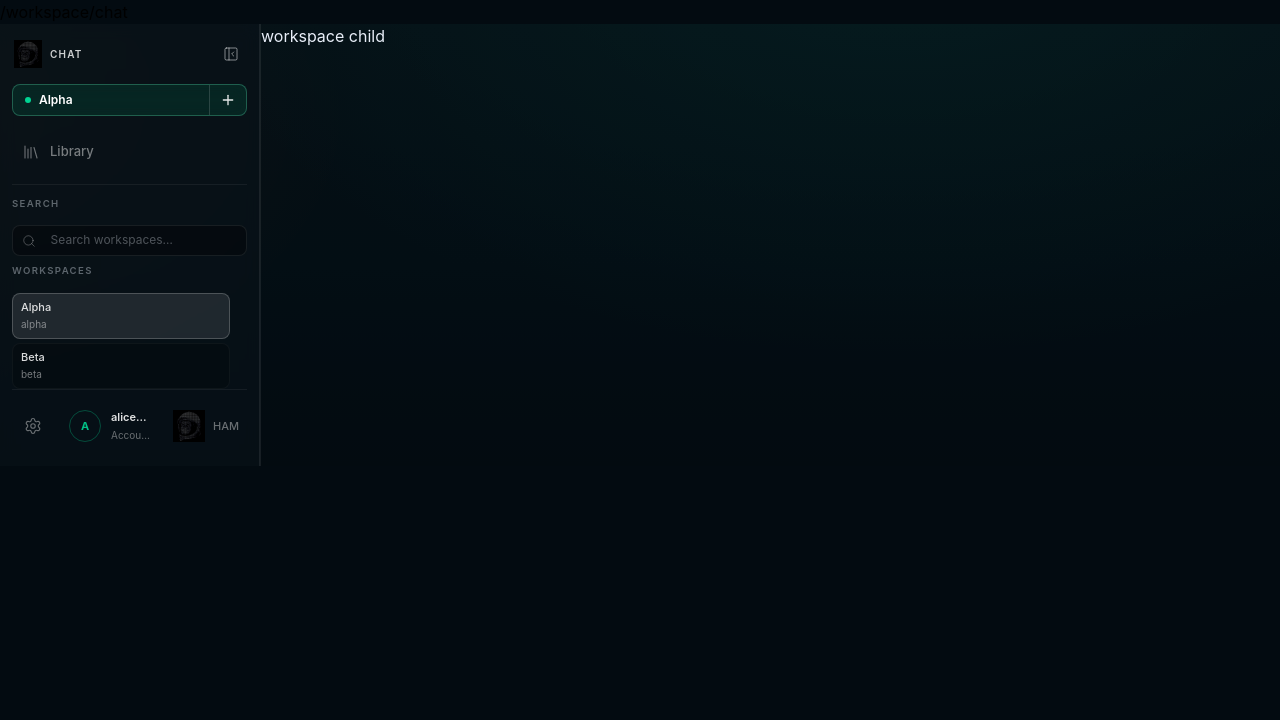
Test: WorkspaceShell workspace sidebar › opens create modal from the pill + control
Expected: the text "workspace child" is shown, x1=261 y1=26 x2=385 y2=46
Click the button with test id "ham-workspace-pill-create". click: (228, 100)
box: x1=209 y1=85 x2=246 y2=115
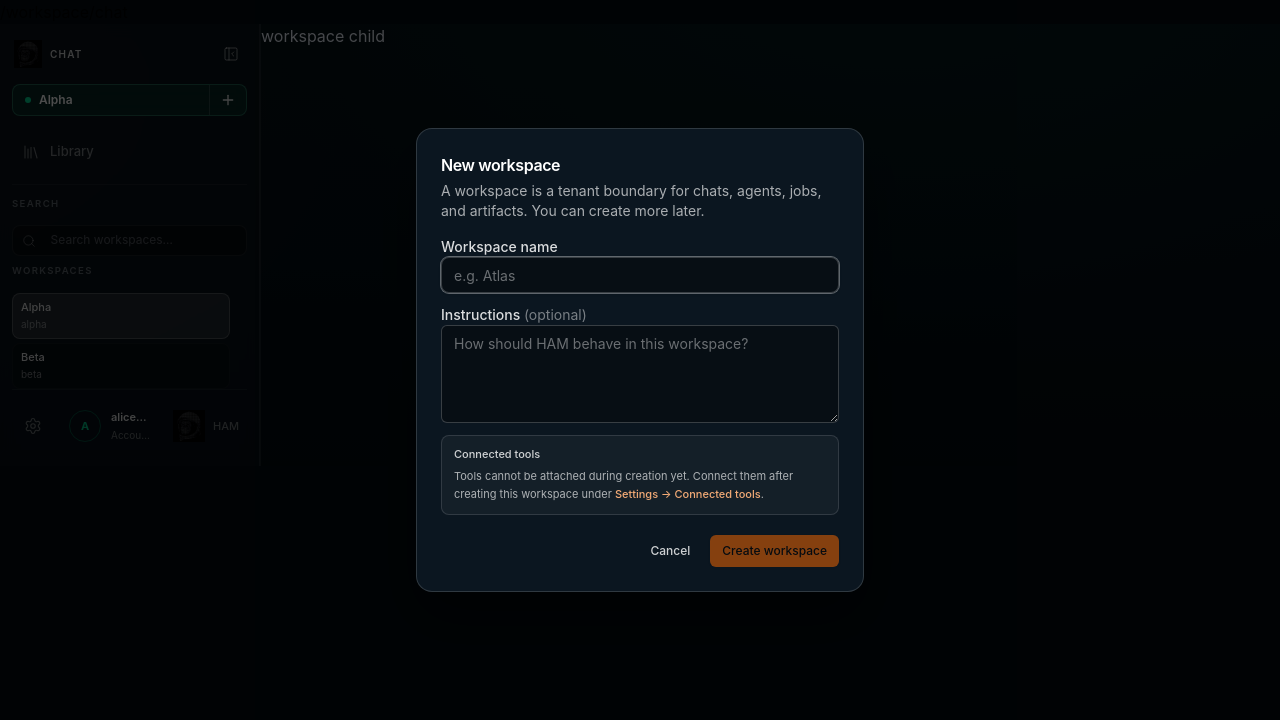
Result: the dialog with test id "ham-workspace-create-dialog" is shown
Click the button "Cancel". click: (670, 551)
box: x1=638 y1=535 x2=702 y2=567
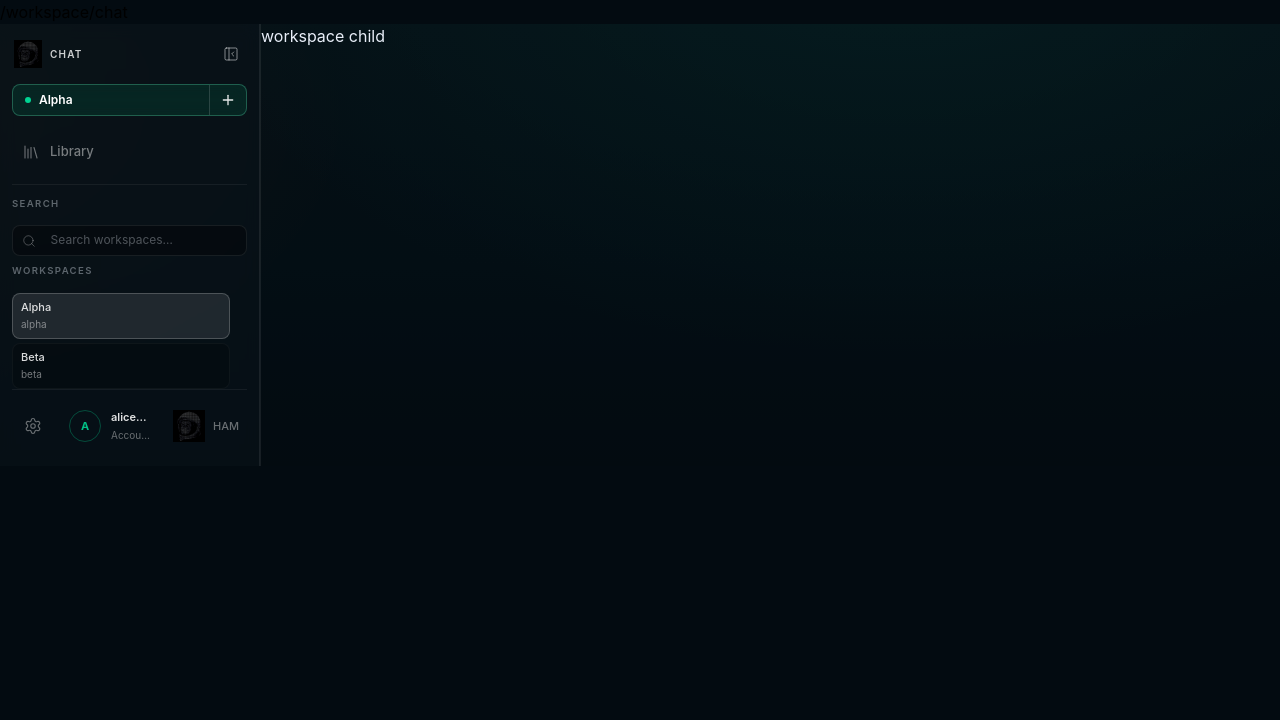
Result: the dialog with test id "ham-workspace-create-dialog" is gone
